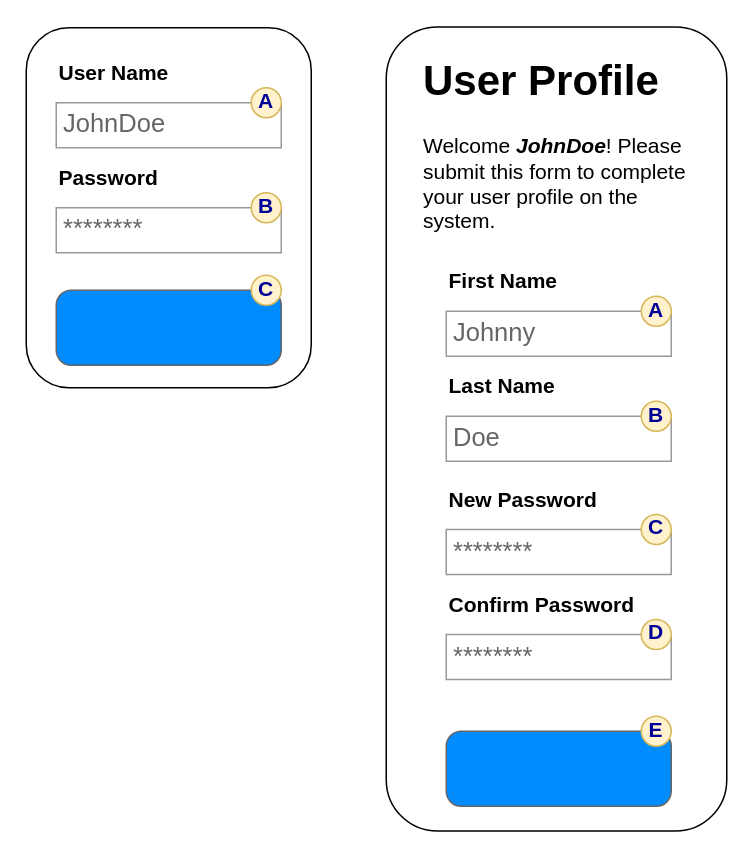
The diagram is 753 pixels wide and 857 high, and some of its shapes have lost their labels. Each missing label, with the box of its shape:
Sign In: (55, 289, 281, 365)
Update Profile: (445, 730, 671, 806)
